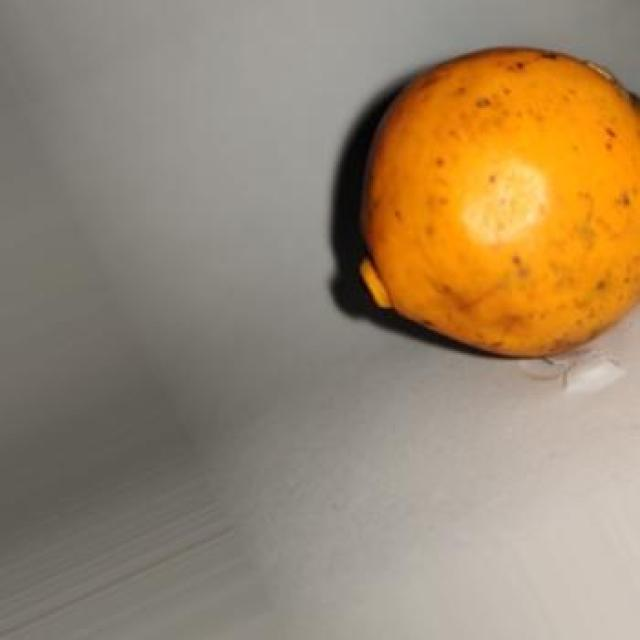good: (338, 46, 638, 358)
